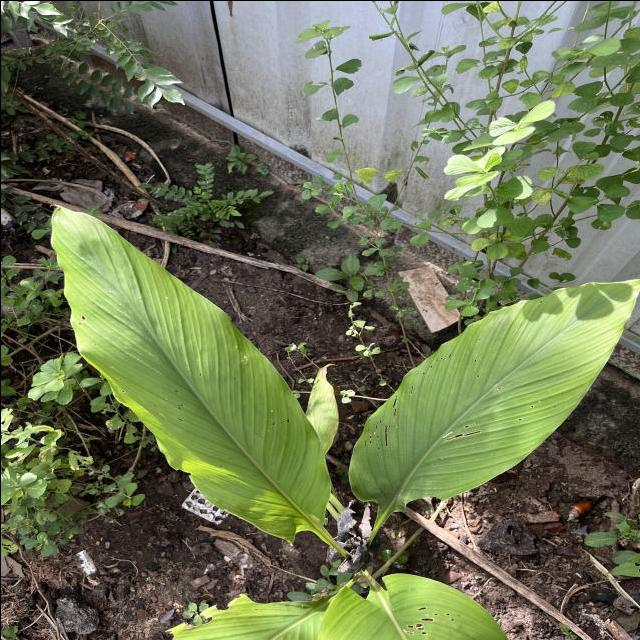Curcuma longa: (46, 200, 334, 548), (344, 273, 640, 514)
